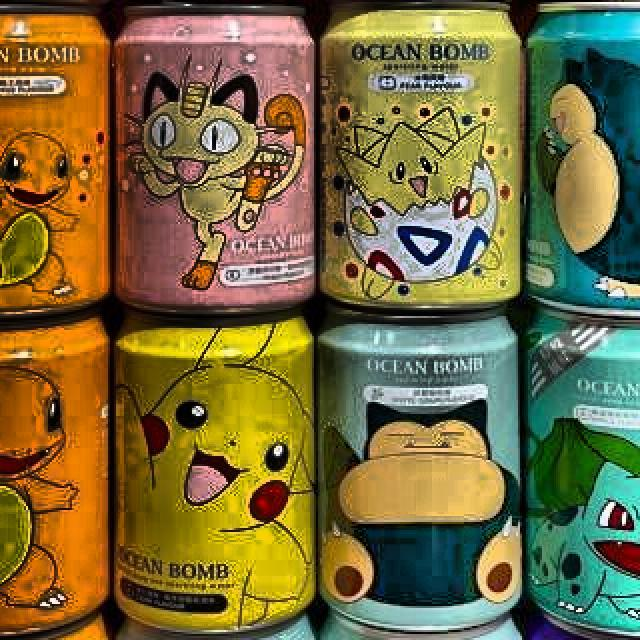metal: (310, 302, 528, 640), (310, 0, 532, 318), (114, 298, 318, 640), (112, 0, 330, 310), (526, 264, 640, 640), (0, 0, 130, 320), (0, 306, 114, 640), (522, 0, 640, 314)
